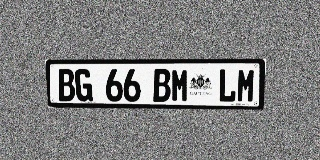6: (105, 69, 123, 102), (123, 69, 141, 102)
B: (57, 69, 76, 101), (153, 69, 171, 102)
G: (74, 69, 93, 101)
L: (218, 69, 237, 102)
M: (236, 69, 256, 103), (171, 69, 189, 102)
